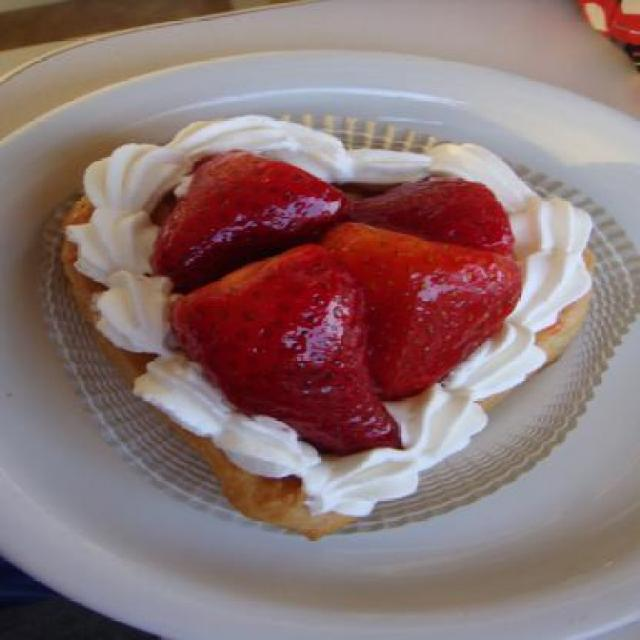Strawberry: (171, 242, 411, 447), (326, 222, 524, 401), (156, 148, 352, 292), (336, 172, 522, 266)
